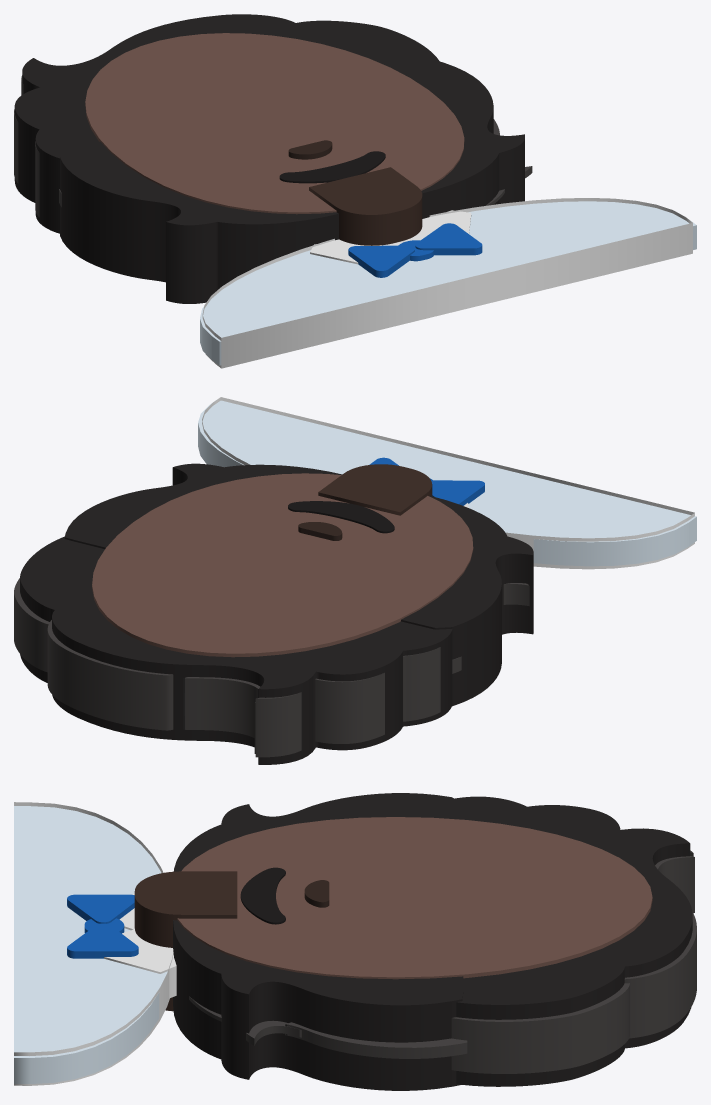
File: emoji_u1f9d1_1f3ff_200d_1f4bc.glb
3 views of the same model, one above another, from view 1: azimuth 30°, elevation 25°; view 2: azimuth 150°, elevation 25°; view 3: azimuth 270°, elevation 25° (orthographic). The views are drawn at different scales.
Parts seen in each view (by area): view 1: emoji_u1f9d1_1f3ff_200d_1f4bc; view 2: emoji_u1f9d1_1f3ff_200d_1f4bc; view 3: emoji_u1f9d1_1f3ff_200d_1f4bc.
Boxes of the visible parts, x1=… form: emoji_u1f9d1_1f3ff_200d_1f4bc: x1=14, y1=14, x2=696, y2=368; emoji_u1f9d1_1f3ff_200d_1f4bc: x1=14, y1=397, x2=696, y2=764; emoji_u1f9d1_1f3ff_200d_1f4bc: x1=14, y1=793, x2=696, y2=1090.
Bounding box in the file's own units: 0.0292 × 0.0054 × 0.0333.
